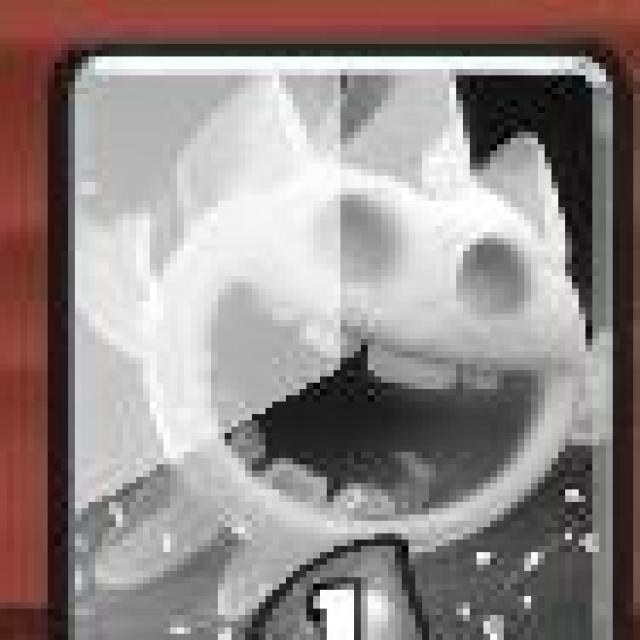Ice_Spirit: (46, 44, 630, 640)
